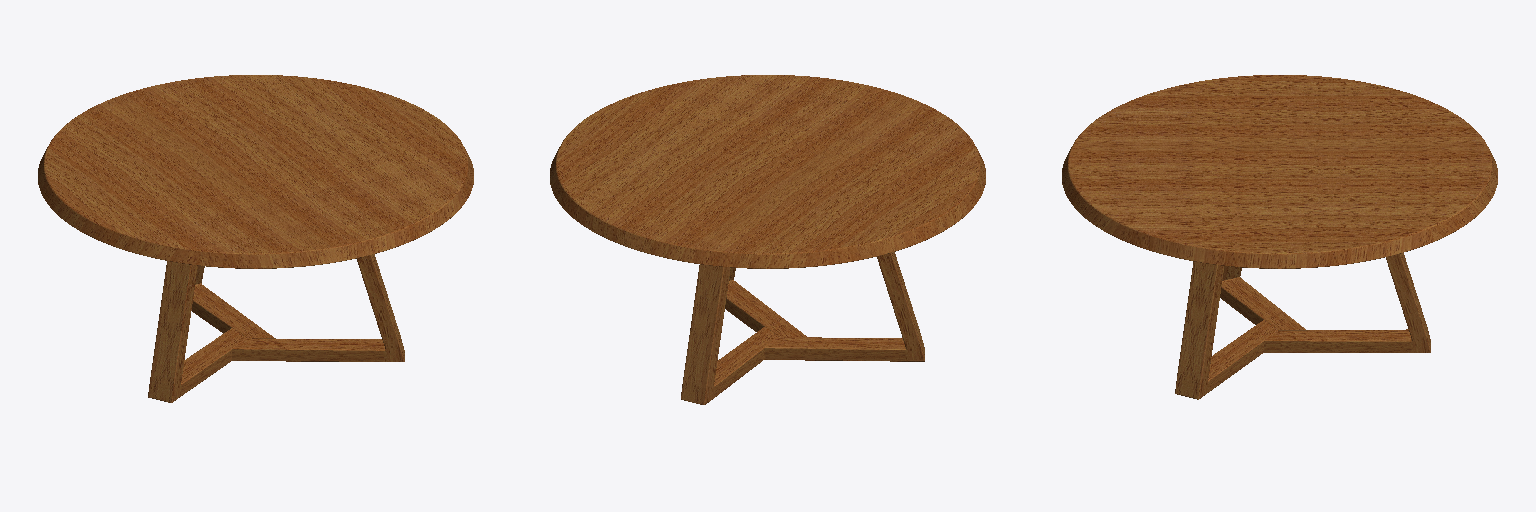
3 renders of one model, left to right at view 1: azimuth 30°, elevation 25°; view 2: azimuth 150°, elevation 25°; view 3: azimuth 270°, elevation 25°, orthographic.
Bounding box in the file's own units: 155 × 71.91 × 155.
1 materials, 1 textured.